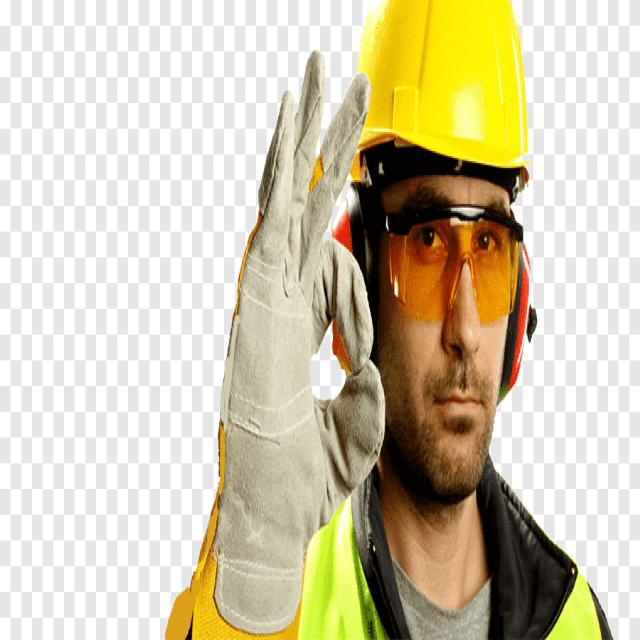Gloves: (191, 28, 398, 640)
Helmet: (346, 0, 549, 198)
Protective Glasses: (364, 166, 528, 330)
